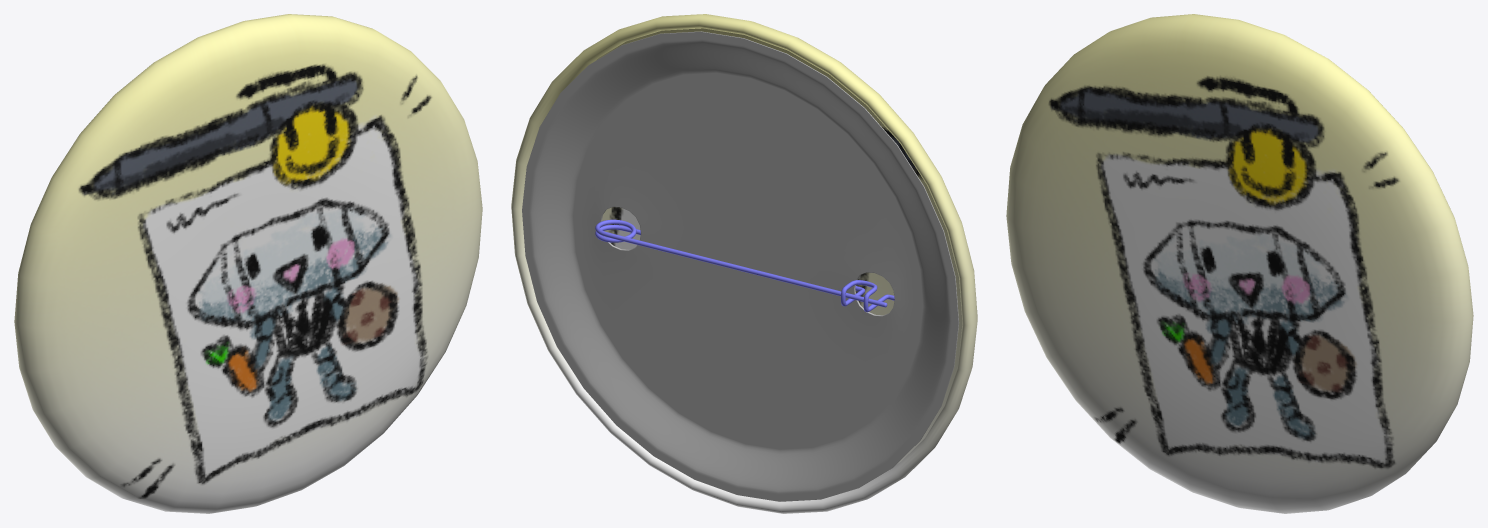
3 renders of one model, left to right at view 1: azimuth 30°, elevation 25°; view 2: azimuth 150°, elevation 25°; view 3: azimuth 330°, elevation 25°, orthographic.
Visible parts, largest first — view 1: Button_Pin; view 2: Button_Pin; view 3: Button_Pin.
Part boxes in pixels (x1,y1,x2,y2): Button_Pin: [14, 14, 482, 513]; Button_Pin: [511, 14, 977, 513]; Button_Pin: [1006, 14, 1473, 513].
Bounding box in the file's own units: 0.0629 × 0.0629 × 0.00761.
Materials: 3 (2 with a texture image).
